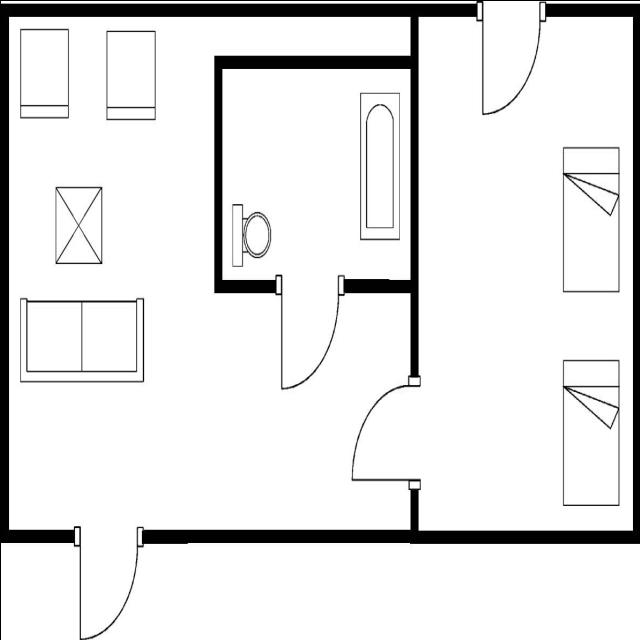bed: (559, 350, 622, 514), (558, 140, 622, 298)
coffee_table: (51, 180, 108, 273)
large_sink: (228, 198, 276, 272)
large_sofa: (16, 288, 149, 392)
small_sofa: (102, 24, 160, 126), (16, 25, 74, 125)
tub: (354, 85, 402, 245)
